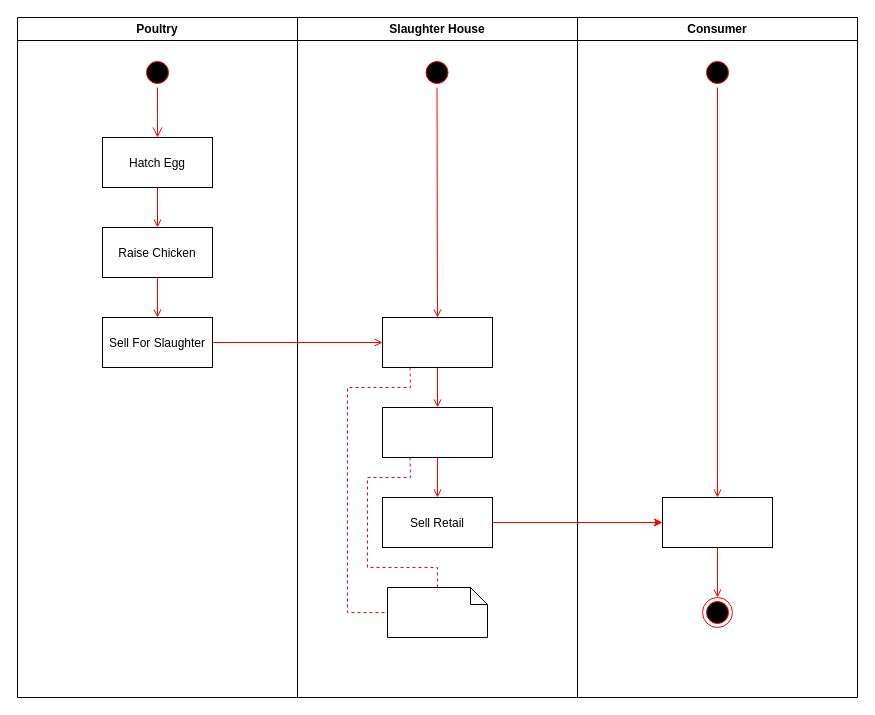
The diagram is 875 pixels wide and 715 high, and some of its shapes have lost their labels. Each missing label, with the centre of its shape:
"Buy Retail" goes at pixel 717 522.
"Halal Slaughter" goes at pixel 437 432.
"Purchase Healthy Chicken" goes at pixel 437 342.
"Track Authenticity" goes at pixel 437 612.
